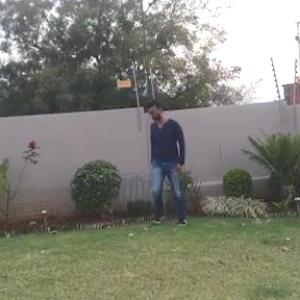follow: (148, 99, 190, 228)
